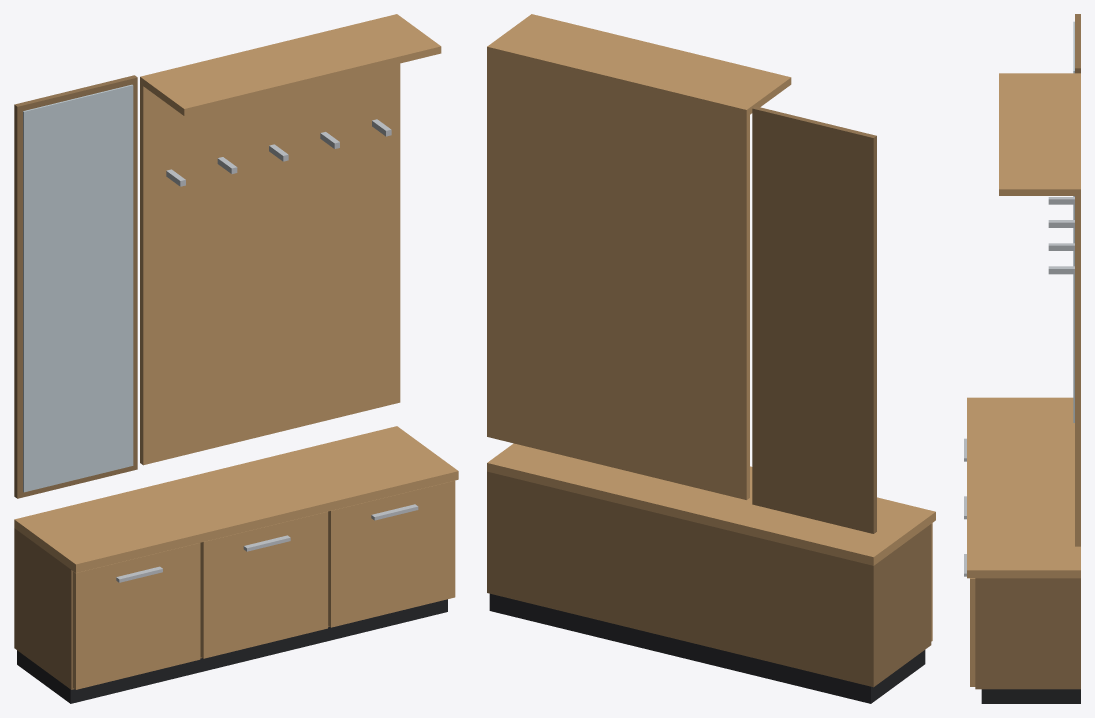
File: vestiyer-1400-mese.glb
3 renders of one model, left to right at view 1: azimuth 30°, elevation 25°; view 2: azimuth 150°, elevation 25°; view 3: azimuth 270°, elevation 25°, orthographic. The views are drawn at different scales.
Parts seen in each view (by area): view 1: mobilya; view 2: mobilya; view 3: mobilya.
Part boxes in pixels (box(x1,y1,x2,y2)): mobilya: box(14, 14, 458, 703); mobilya: box(487, 14, 935, 703); mobilya: box(964, 14, 1080, 703).
Bounding box in the file's own units: 1.4 × 1.96 × 0.4.
